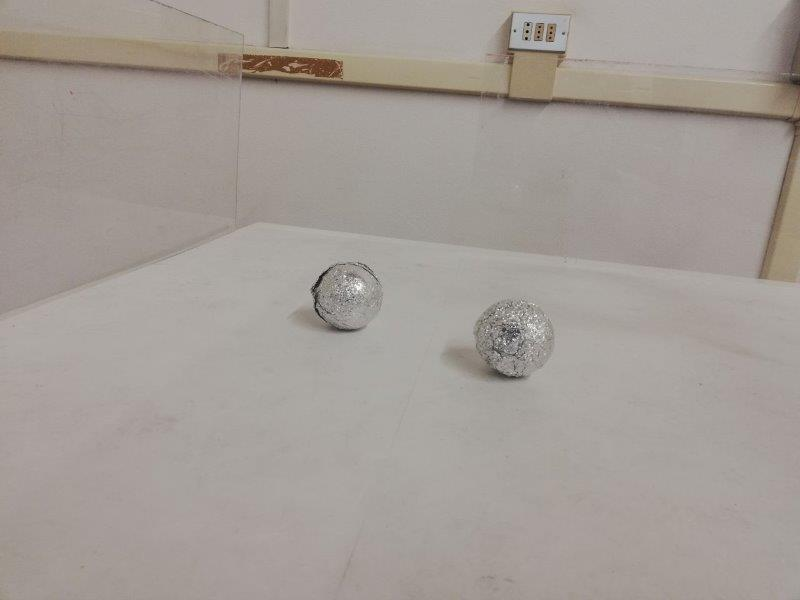bianca: (477, 301, 556, 379), (313, 262, 382, 331)
